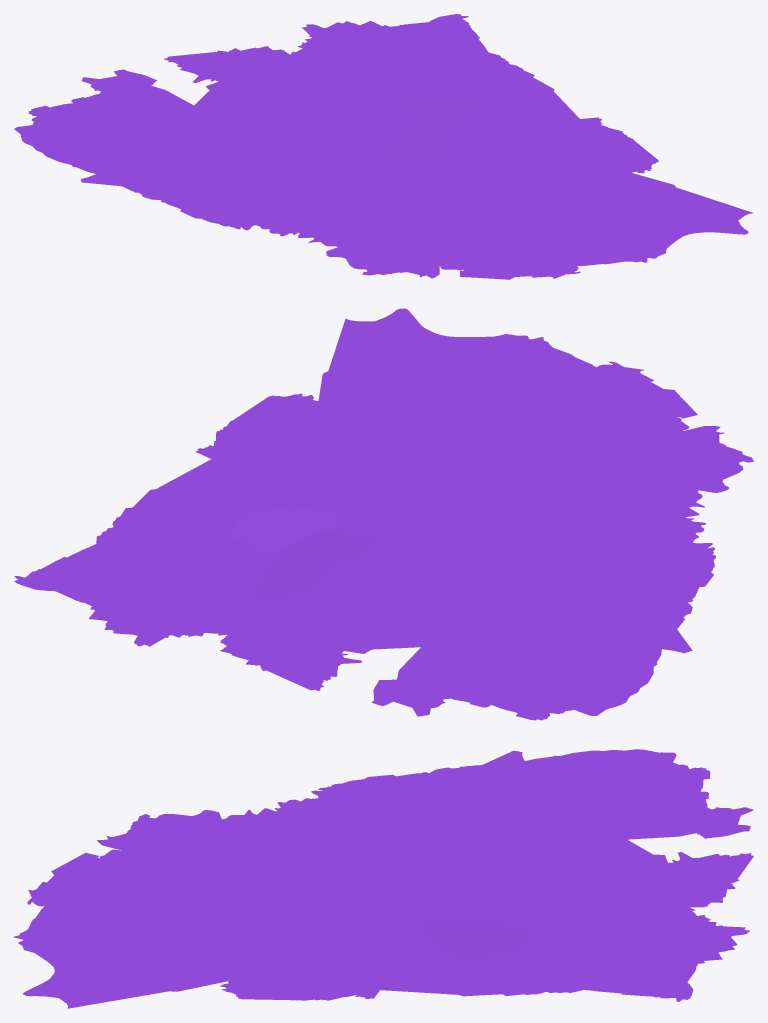
The model's file is Overlapping Map.fbx.
3 views of the same model, one above another, from view 1: azimuth 30°, elevation 25°; view 2: azimuth 150°, elevation 25°; view 3: azimuth 270°, elevation 25° (orthographic). The views are drawn at different scales.
Parts seen in each view (by area): view 1: gadm40_ROU_2.046, gadm40_ROU_2.019, gadm40_ROU_2.054, gadm40_ROU_2.032, gadm40_ROU_2.039, gadm40_ROU_2.044, gadm40_ROU_2.015, gadm40_ROU_2.040, gadm40_ROU_2.033, gadm40_ROU_2.029, gadm40_ROU_2.020, gadm40_ROU_2.047 (+47 smaller); view 2: gadm40_ROU_2.046, gadm40_ROU_2.019, gadm40_ROU_2.054, gadm40_ROU_2.032, gadm40_ROU_2.039, gadm40_ROU_2.015, gadm40_ROU_2.044, gadm40_ROU_2.033, gadm40_ROU_2.040, gadm40_ROU_2.020, gadm40_ROU_2.029, gadm40_ROU_2.047 (+47 smaller); view 3: gadm40_ROU_2.046, gadm40_ROU_2.019, gadm40_ROU_2.054, gadm40_ROU_2.032, gadm40_ROU_2.044, gadm40_ROU_2.039, gadm40_ROU_2.015, gadm40_ROU_2.033, gadm40_ROU_2.040, gadm40_ROU_2.029, gadm40_ROU_2.020, gadm40_ROU_2.001 (+47 smaller).
Boxes of the visible parts, <box> form: gadm40_ROU_2.046: <box>594,173,753,262</box>; gadm40_ROU_2.019: <box>301,145,424,194</box>; gadm40_ROU_2.054: <box>493,172,600,246</box>; gadm40_ROU_2.032: <box>117,118,241,165</box>; gadm40_ROU_2.039: <box>261,182,399,236</box>; gadm40_ROU_2.044: <box>501,140,658,184</box>; gadm40_ROU_2.015: <box>302,21,436,77</box>; gadm40_ROU_2.040: <box>391,179,510,220</box>; gadm40_ROU_2.033: <box>216,89,310,145</box>; gadm40_ROU_2.029: <box>14,125,139,174</box>; gadm40_ROU_2.020: <box>379,14,488,59</box>; gadm40_ROU_2.047: <box>298,204,408,246</box>; gadm40_ROU_2.046: <box>318,308,552,411</box>; gadm40_ROU_2.019: <box>412,498,569,564</box>; gadm40_ROU_2.054: <box>384,369,538,463</box>; gadm40_ROU_2.032: <box>443,600,609,657</box>; gadm40_ROU_2.039: <box>507,486,705,543</box>; gadm40_ROU_2.015: <box>88,558,215,646</box>; gadm40_ROU_2.044: <box>232,393,413,462</box>; gadm40_ROU_2.033: <box>338,570,492,629</box>; gadm40_ROU_2.040: <box>432,437,585,498</box>; gadm40_ROU_2.020: <box>14,544,153,606</box>; gadm40_ROU_2.029: <box>574,630,661,715</box>; gadm40_ROU_2.047: <box>553,472,704,517</box>; gadm40_ROU_2.046: <box>14,927,237,1008</box>; gadm40_ROU_2.019: <box>342,840,450,900</box>; gadm40_ROU_2.054: <box>77,912,302,940</box>; gadm40_ROU_2.032: <box>502,782,602,844</box>; gadm40_ROU_2.044: <box>220,927,305,1000</box>; gadm40_ROU_2.039: <box>274,798,358,870</box>; gadm40_ROU_2.015: <box>573,925,749,963</box>; gadm40_ROU_2.033: <box>478,837,628,878</box>; gadm40_ROU_2.040: <box>221,862,317,917</box>; gadm40_ROU_2.029: <box>501,749,676,784</box>; gadm40_ROU_2.020: <box>581,954,698,1001</box>; gadm40_ROU_2.001: <box>453,900,610,927</box>.
Bounding box in the file's own units: 2049704 × 24091 × 2469367.
